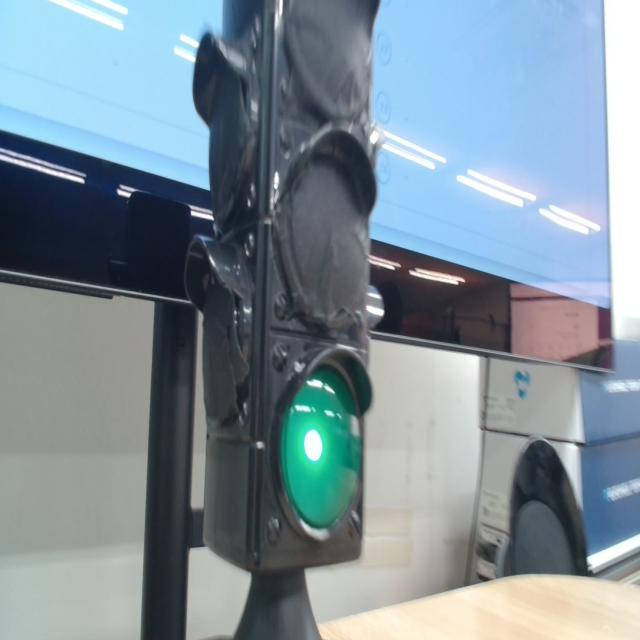green_light: (281, 366, 361, 528)
